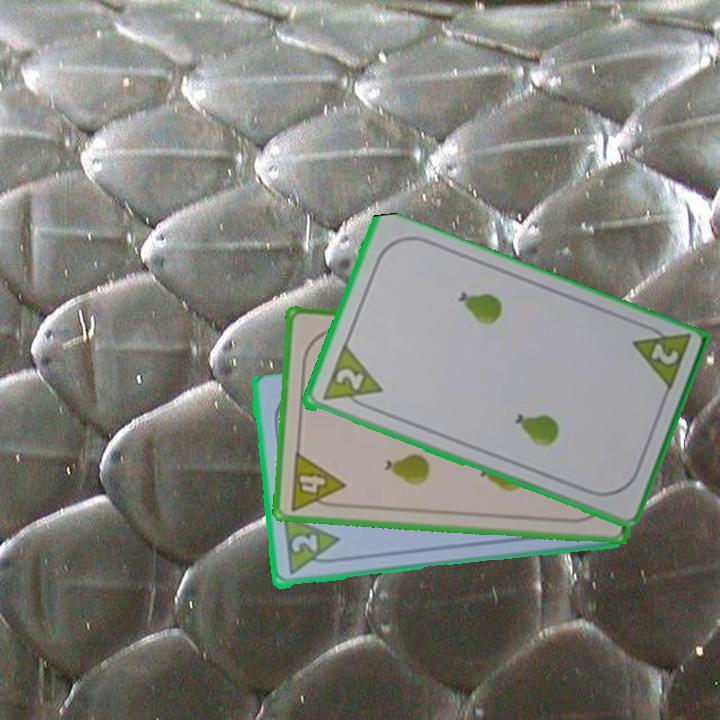2p: (646, 339, 682, 369), (331, 364, 366, 394), (287, 530, 320, 556)
4p: (286, 448, 348, 513)
